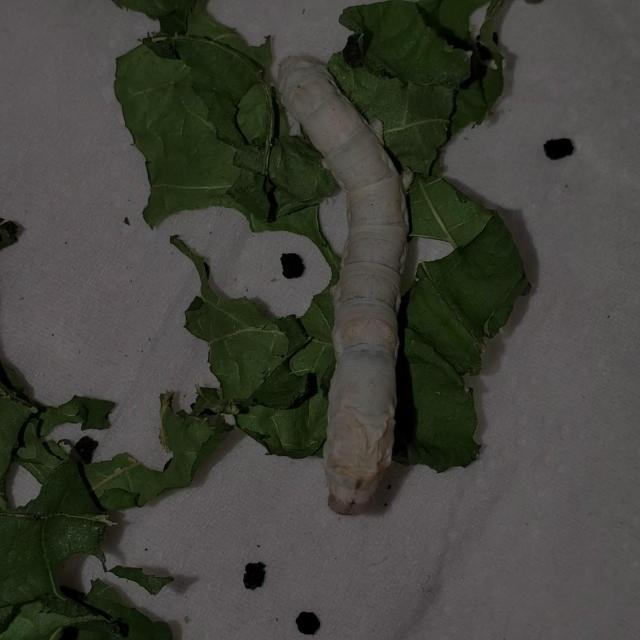Healthy: (266, 46, 428, 516)
